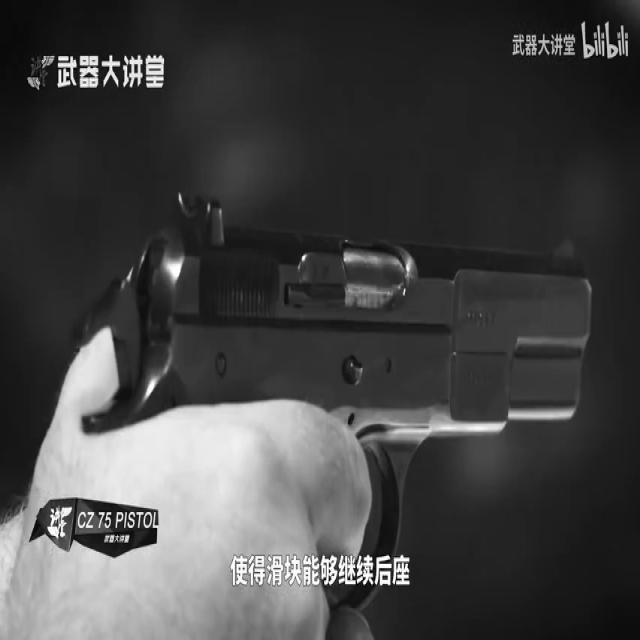Hand-Gun: (0, 0, 631, 631)
